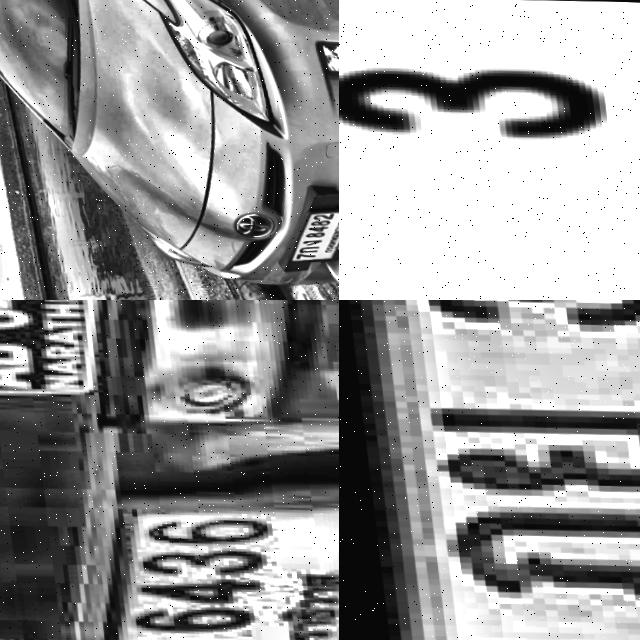license-plate: (339, 300, 640, 640), (339, 0, 640, 300), (47, 466, 339, 640), (265, 199, 339, 262)
